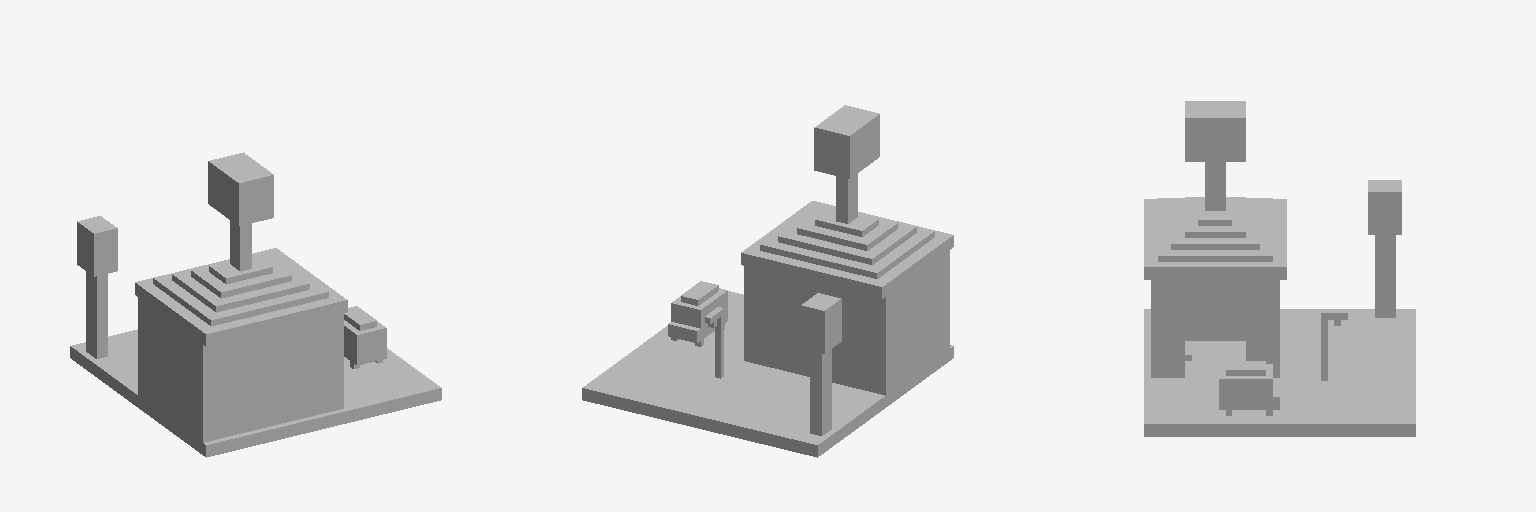
Rendered from F2B10_001 - Nba Cheok.obj.
3 renders of one model, left to right at view 1: azimuth 30°, elevation 25°; view 2: azimuth 150°, elevation 25°; view 3: azimuth 270°, elevation 25°, orthographic.
Parts seen in each view (by area): view 1: object 1; view 2: object 1; view 3: object 1.
Boxes of the visible parts, <box> form: object 1: <box>70,152,441,457</box>; object 1: <box>582,105,953,457</box>; object 1: <box>1144,101,1415,436</box>.
Size of the model in its own units: 4 by 4 by 4.